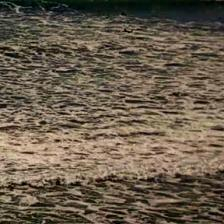surfer: (122, 28, 134, 33), (120, 12, 129, 18)
